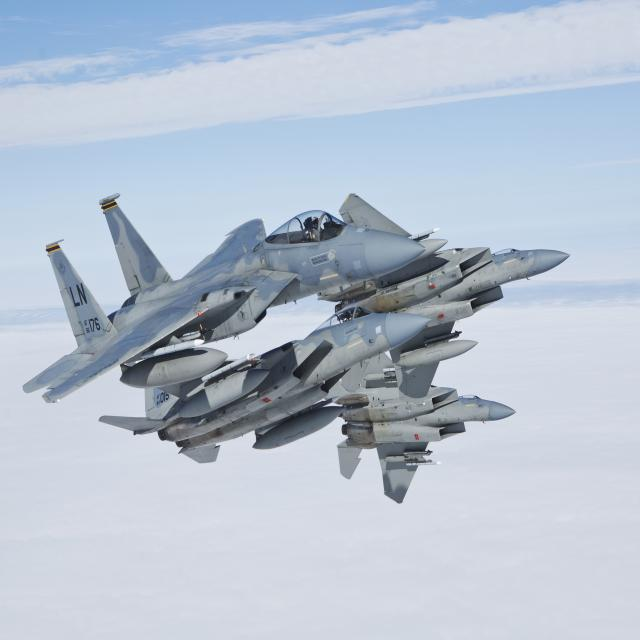MIL_Plane: (23, 192, 427, 404), (317, 193, 570, 408), (97, 305, 431, 464), (322, 352, 516, 504)
